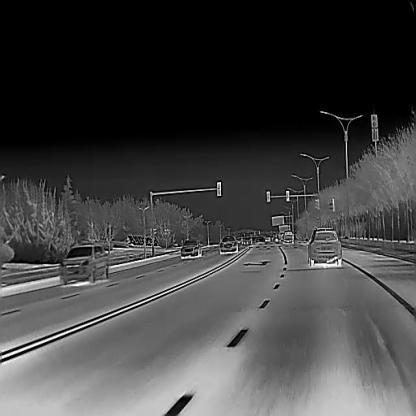car: (58, 243, 108, 284), (304, 227, 341, 266), (180, 238, 202, 258), (219, 233, 238, 253), (282, 232, 293, 244), (236, 236, 242, 244)
